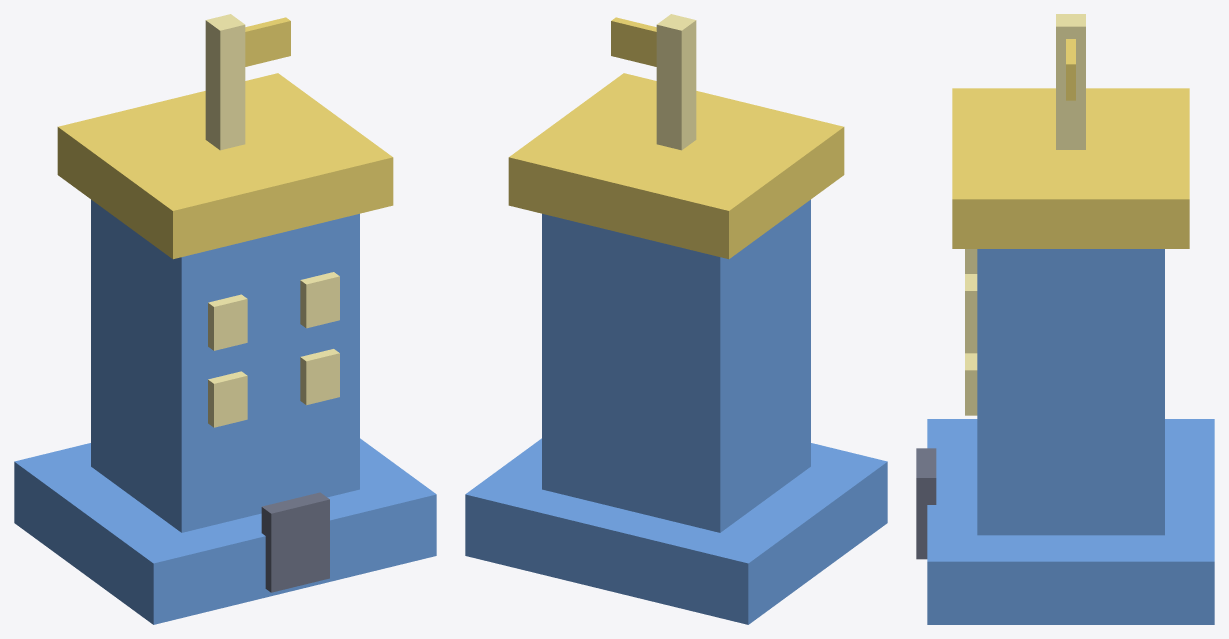
Rendered from house_lv4.gltf.
3 views of the same model, side by side, from view 1: azimuth 30°, elevation 25°; view 2: azimuth 150°, elevation 25°; view 3: azimuth 270°, elevation 25° (orthographic). The views are drawn at different scales.
Visible parts, largest first — view 1: Tower, Crown, Podium, Door, Spire, W1, W2, W3, W4, Flag; view 2: Tower, Podium, Crown, Spire, Flag; view 3: Tower, Podium, Crown, Spire, Door, W2, W4, Flag.
Boxes of the visible parts, x1,y1,x2,y2 form: Tower: (91, 199, 359, 532); Crown: (57, 73, 393, 259); Podium: (14, 438, 436, 624); Door: (261, 492, 329, 592); Spire: (205, 14, 245, 150); W1: (208, 371, 247, 427); W2: (300, 349, 339, 405); W3: (208, 294, 247, 350); W4: (300, 272, 339, 328); Flag: (245, 17, 290, 66); Tower: (542, 199, 810, 532); Podium: (465, 438, 887, 624); Crown: (508, 73, 844, 259); Spire: (656, 14, 696, 150); Flag: (611, 17, 656, 66); Tower: (977, 249, 1164, 535); Podium: (927, 419, 1214, 624); Crown: (952, 88, 1189, 248); Spire: (1056, 14, 1085, 149); Door: (916, 448, 936, 559); W2: (965, 353, 977, 415); W4: (965, 274, 977, 336); Flag: (1066, 39, 1075, 100).
Size of the model in its own units: 1.35 by 2.36 by 1.19.
